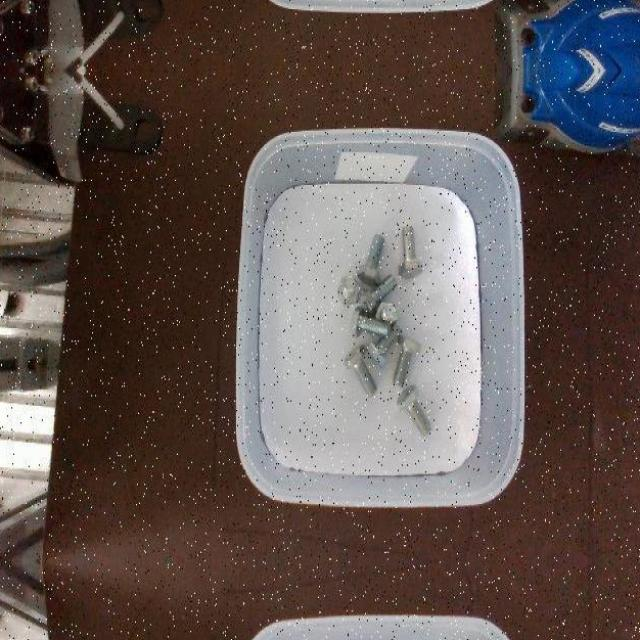screw: (396, 384, 432, 436), (344, 344, 377, 398), (358, 273, 397, 314), (393, 334, 421, 386), (358, 233, 385, 284), (350, 306, 390, 338), (398, 226, 422, 279), (336, 274, 359, 304)
